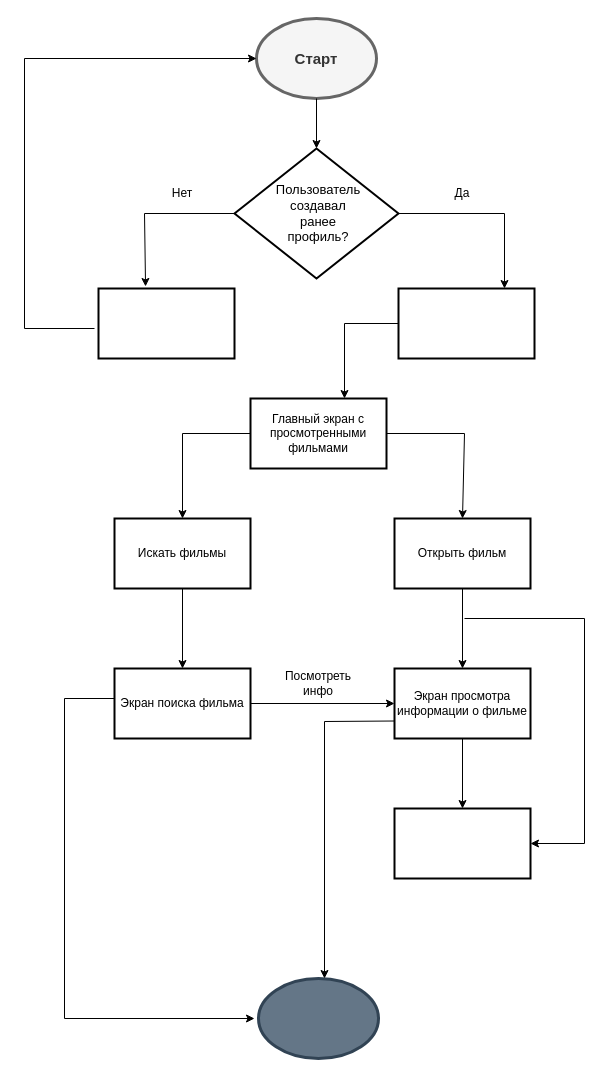
This 610x1077 diagram has some shape labels left out. The box of each missing label's shape, as (x1, y1, x2, y2) in pixels:
Войти: (397, 287, 535, 359)
Добавить в просмотренные: (393, 807, 531, 879)
Зарегистрироваться: (97, 287, 235, 359)
Конец: (256, 976, 380, 1060)
